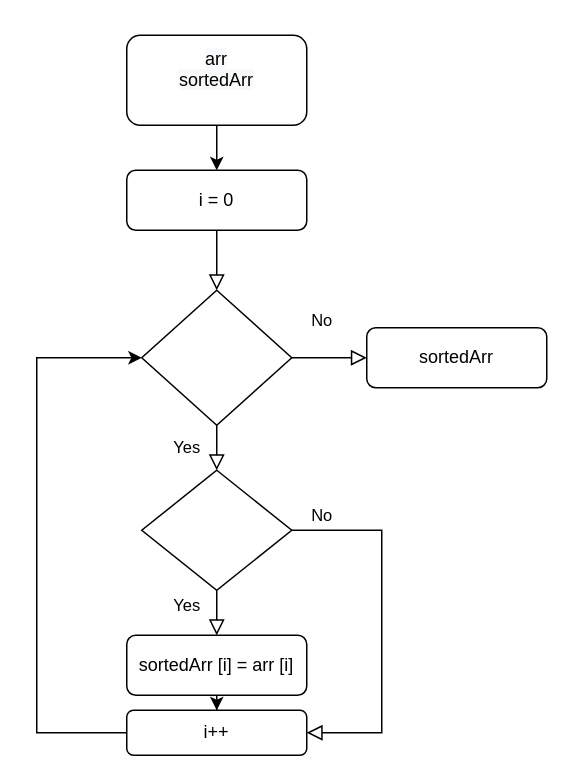
Some shapes in this 573 by 782 pixel diagram are drawn without their labels. Each missing label, with the centre of its shape:
"arr[i].Length <=3" belongs at pixel 216 529.
"i < arr.Length" belongs at pixel 216 357.
